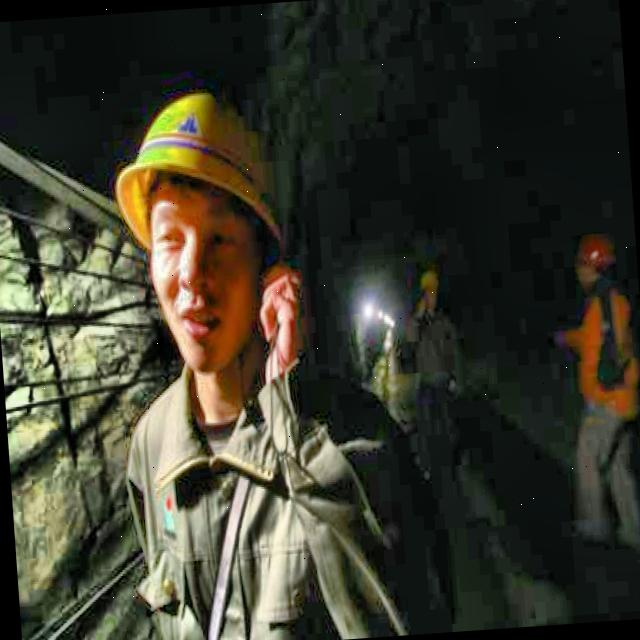helmet: (101, 53, 313, 399)
